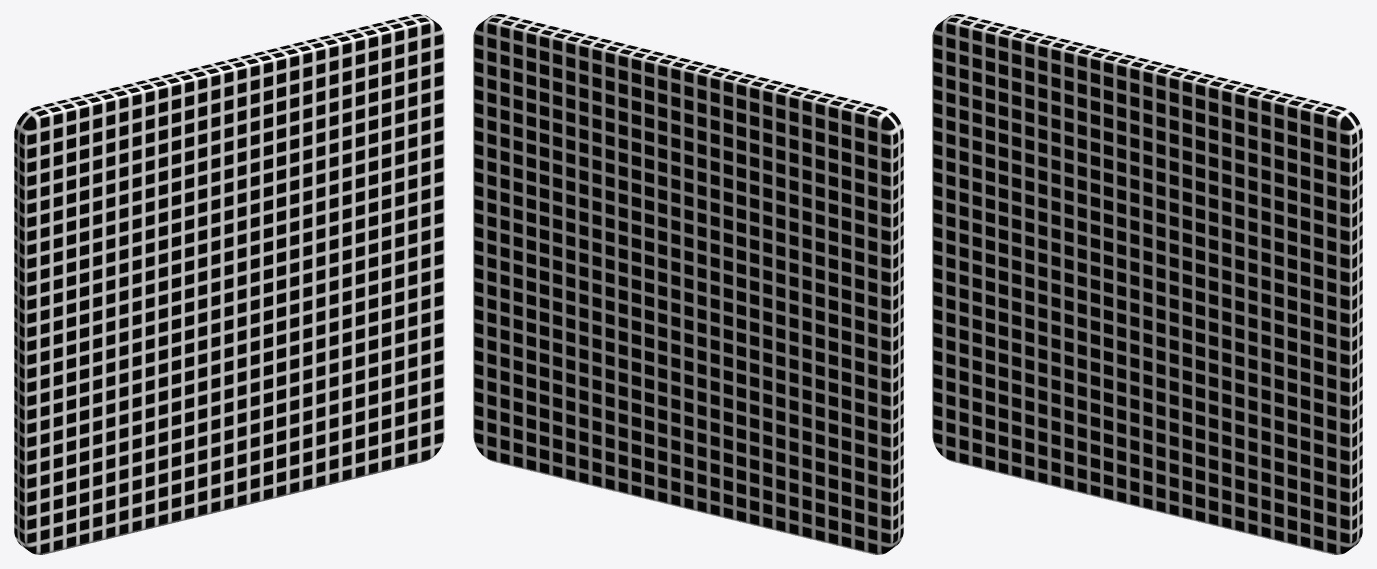
Rendered from shield.glb.
3 renders of one model, left to right at view 1: azimuth 30°, elevation 25°; view 2: azimuth 150°, elevation 25°; view 3: azimuth 330°, elevation 25°, orthographic.
Visible parts, largest first — view 1: Material; view 2: Material; view 3: Material.
Part boxes in pixels (box(x1,y1,x2,y2)): Material: box(14, 14, 444, 554); Material: box(473, 14, 903, 554); Material: box(932, 14, 1362, 554).
Bounding box in the file's own units: 1 × 1 × 0.05.
1 material, 1 textured.
